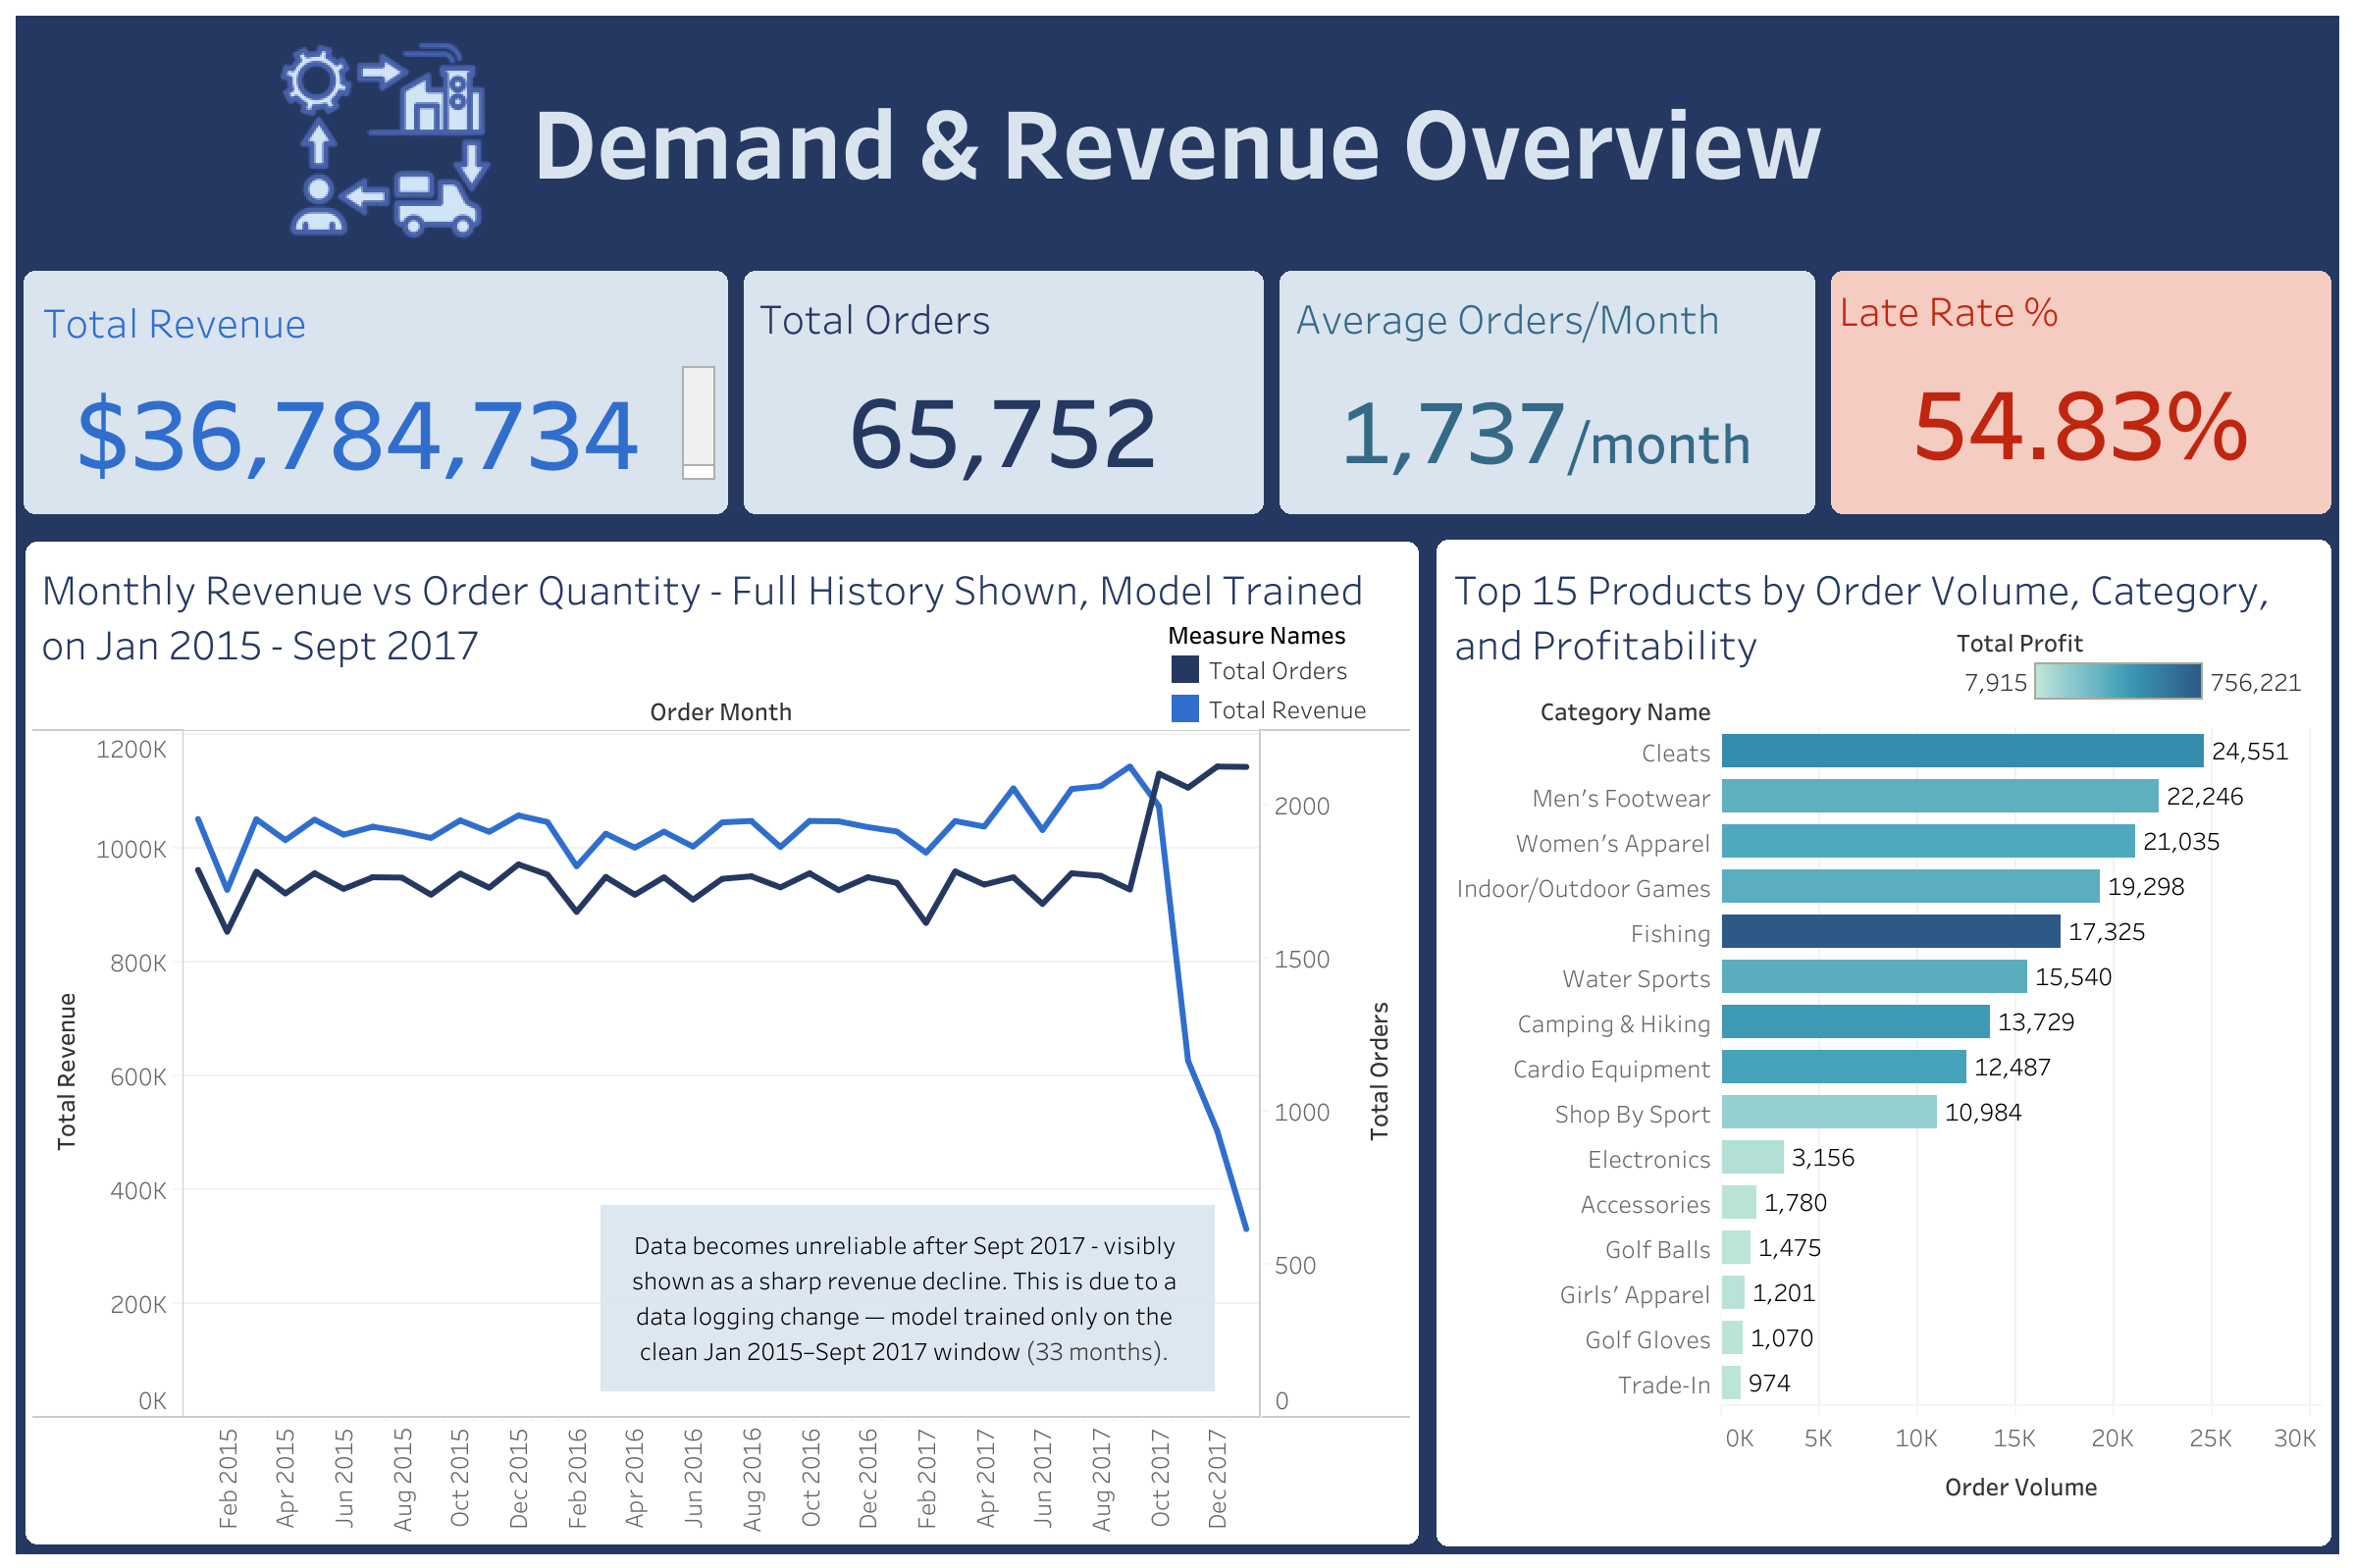

Layout of this report page (visuals, bound fields, positions):
{"tool":"tableau","page":{"name":"Dashboard 1 - Demand & Revenue Overview","canvas":[1200,800],"ordinal":0},"visuals":[{"type":"text","box":[8,8,1184,126]},{"type":"image","param":"Image/supply_chain.png","box":[146,21,108,97]},{"type":"worksheet","title":"KPI_Rate_Late_Pct","mark":"Automatic","box":[929,134,263,132]},{"type":"worksheet","title":"KPI_Total_Revenue","mark":"Text","box":[12,138,359,112]},{"type":"worksheet","title":"KPI_Total_Orders","mark":"Text","box":[379,138,265,124]},{"type":"worksheet","title":"KPI_Avg_Orders_per_Month","mark":"Automatic","box":[652,138,273,124]},{"type":"worksheet","title":"Q4b Category Order Volume","mark":"Automatic","rows":["category_name"],"cols":["order_count"],"box":[732,275,456,513]},{"type":"worksheet","title":"Q3 Revenue & Profit Trend","mark":"Automatic","rows":["total_revenue","total_orders"],"cols":["order_month"],"box":[13,276,710,511]},{"type":"legend","title":"Q3 Revenue & Profit Trend","param":"[federated.1g97c4u0c145uj12rhjjy140bkuk].[:Measure Names]","box":[594,312,128,59]},{"type":"legend","title":"Q4b Category Order Volume","param":"[federated.0y4g9v90g2rrwh129uwdv1p8h706].[sum:total_profit:qk]","box":[997,314,181,50]}]}

Visuals, with their boxes in screenshot pixels (x1, y1, x2, y2), scaled from the page's 1200x800 canvas onto the 2353x1568 screenshot:
text: 16:16:2337:263
image: 287:41:498:232
"KPI_Rate_Late_Pct" worksheet: 1821:263:2337:521
"KPI_Total_Revenue" worksheet (Text marks): 24:271:727:490
"KPI_Total_Orders" worksheet (Text marks): 743:271:1263:513
"KPI_Avg_Orders_per_Month" worksheet: 1279:271:1813:513
"Q4b Category Order Volume" worksheet: 1436:539:2329:1544
"Q3 Revenue & Profit Trend" worksheet: 26:541:1418:1542
"Q3 Revenue & Profit Trend" legend: 1165:611:1416:727
"Q4b Category Order Volume" legend: 1955:615:2310:713
